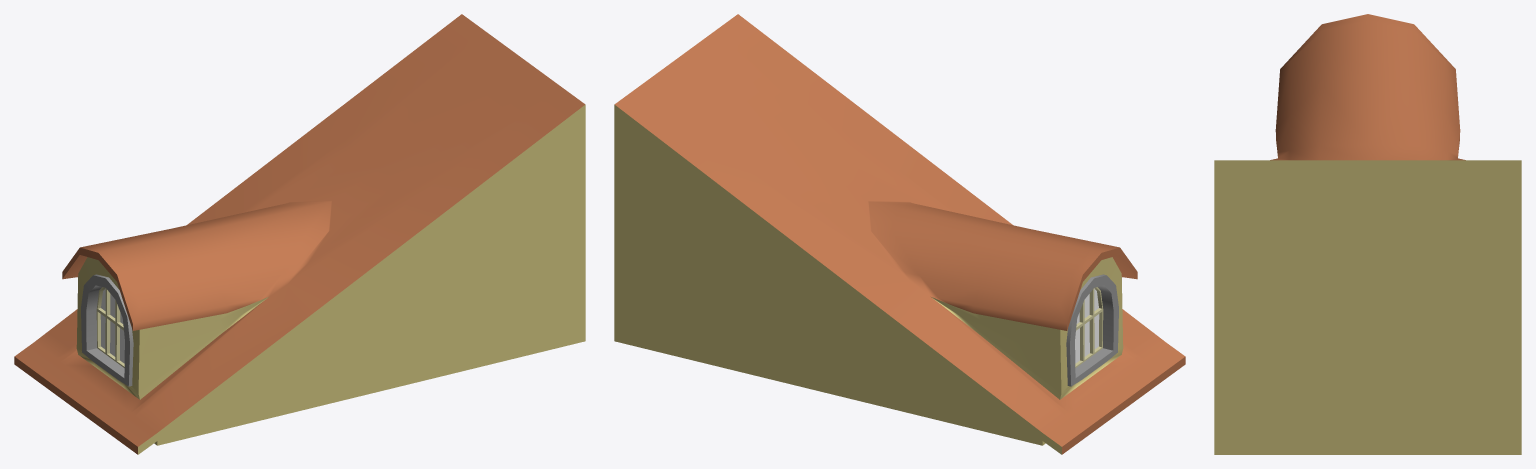
The model's file is Top.fbx.
3 views of the same model, side by side, from view 1: azimuth 30°, elevation 25°; view 2: azimuth 150°, elevation 25°; view 3: azimuth 270°, elevation 25° (orthographic). The views are drawn at different scales.
Parts seen in each view (by area): view 1: TallHouse.026; view 2: TallHouse.026; view 3: TallHouse.026.
Boxes of the visible parts, left/top/right/bottom form: TallHouse.026: left=14, top=14, right=585, bottom=454; TallHouse.026: left=614, top=14, right=1185, bottom=454; TallHouse.026: left=1214, top=14, right=1521, bottom=454.
Bounding box in the file's own units: 8.36 × 4.31 × 4.
